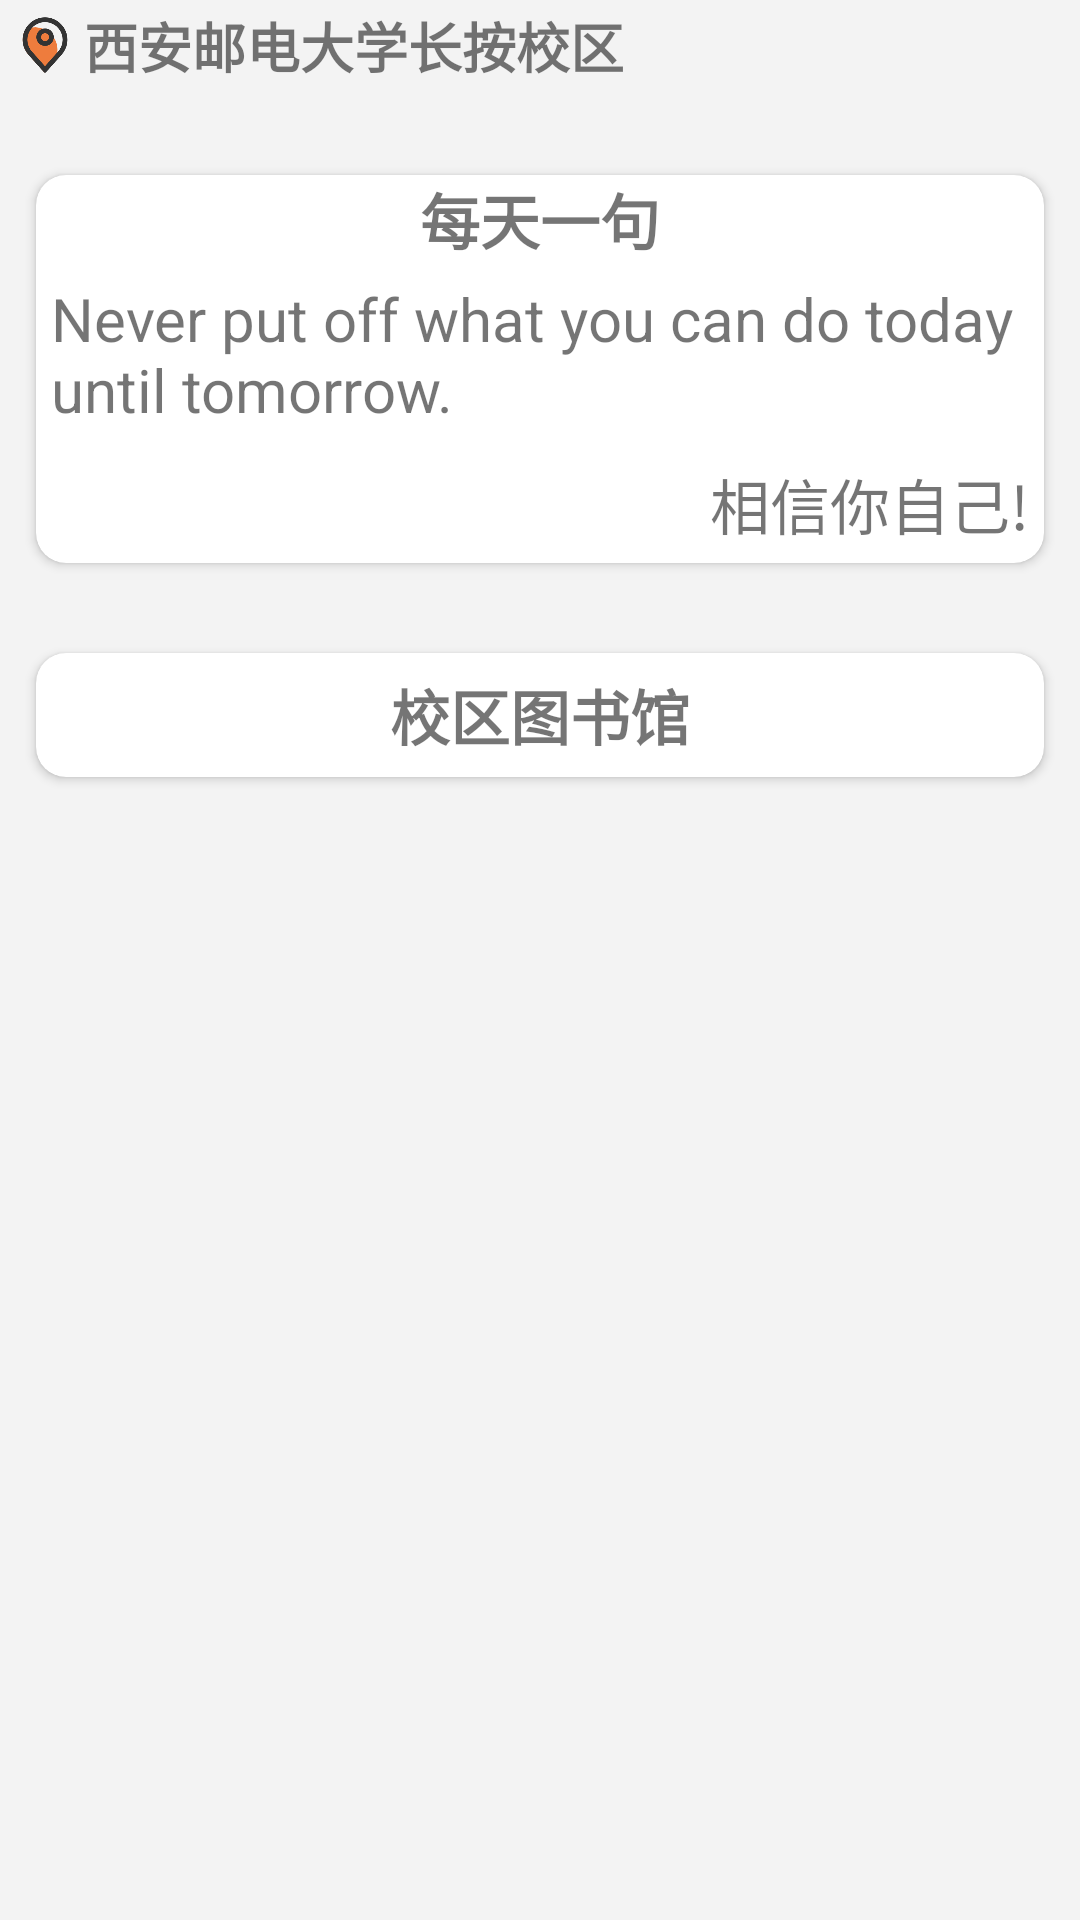

Icon bounding boxes for this 1080 × 1920 phone screenshot, format (x1, y1, x2, y2):
weizhi: (22, 17, 68, 73)
